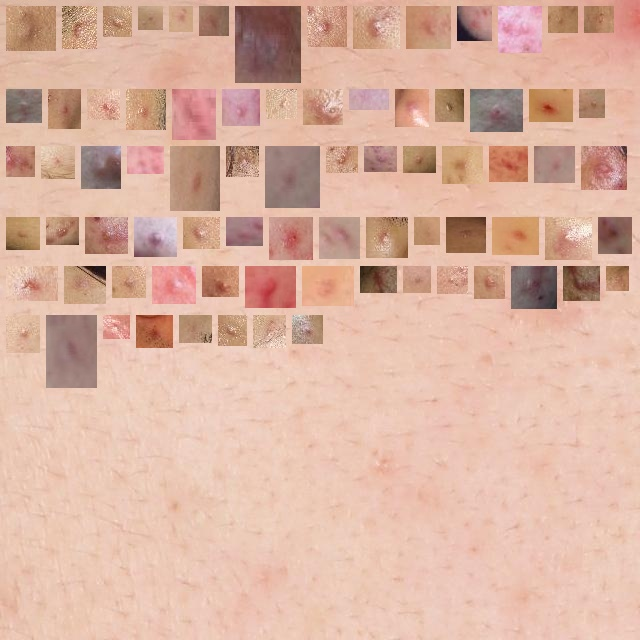papule: (243, 14, 293, 75), (54, 323, 89, 380), (273, 154, 312, 200), (178, 154, 212, 203), (478, 97, 515, 124), (14, 14, 48, 43), (180, 97, 208, 132), (253, 274, 288, 300), (506, 14, 534, 45), (310, 274, 346, 298), (589, 154, 619, 182), (361, 14, 392, 41), (553, 225, 584, 252), (519, 274, 549, 301), (414, 14, 443, 41), (277, 225, 305, 252), (14, 274, 50, 293), (500, 225, 531, 247), (327, 225, 352, 251), (374, 225, 400, 250), (89, 154, 113, 181), (142, 225, 169, 249), (160, 274, 188, 296), (315, 14, 339, 39), (134, 97, 158, 122), (72, 274, 98, 296), (93, 225, 120, 246), (450, 154, 475, 176), (542, 154, 567, 175), (70, 14, 89, 41), (311, 97, 335, 117), (454, 225, 478, 245), (537, 97, 565, 114), (230, 97, 252, 118), (497, 154, 520, 174), (56, 97, 73, 121), (571, 274, 592, 293), (403, 97, 421, 119), (14, 323, 32, 345), (606, 225, 624, 246), (368, 267, 389, 285), (465, 14, 484, 33), (14, 97, 34, 115), (144, 323, 165, 340), (191, 225, 212, 241), (210, 274, 231, 289), (49, 154, 67, 171), (14, 225, 32, 242), (261, 323, 278, 340), (120, 274, 138, 290), (234, 225, 255, 238), (54, 225, 71, 241), (95, 97, 112, 112), (234, 154, 251, 169), (482, 274, 497, 291), (135, 154, 156, 166), (443, 97, 456, 114), (274, 97, 289, 111), (187, 323, 204, 335), (207, 14, 221, 28), (111, 14, 124, 29), (14, 154, 27, 169), (226, 323, 239, 338), (300, 323, 315, 336), (411, 154, 428, 165), (445, 274, 460, 286), (334, 154, 350, 165), (372, 154, 389, 164), (556, 14, 570, 25), (592, 14, 606, 25), (411, 274, 423, 285), (587, 97, 597, 110), (422, 225, 432, 237), (111, 323, 122, 331), (177, 14, 185, 24), (146, 14, 155, 22), (614, 274, 621, 283)
